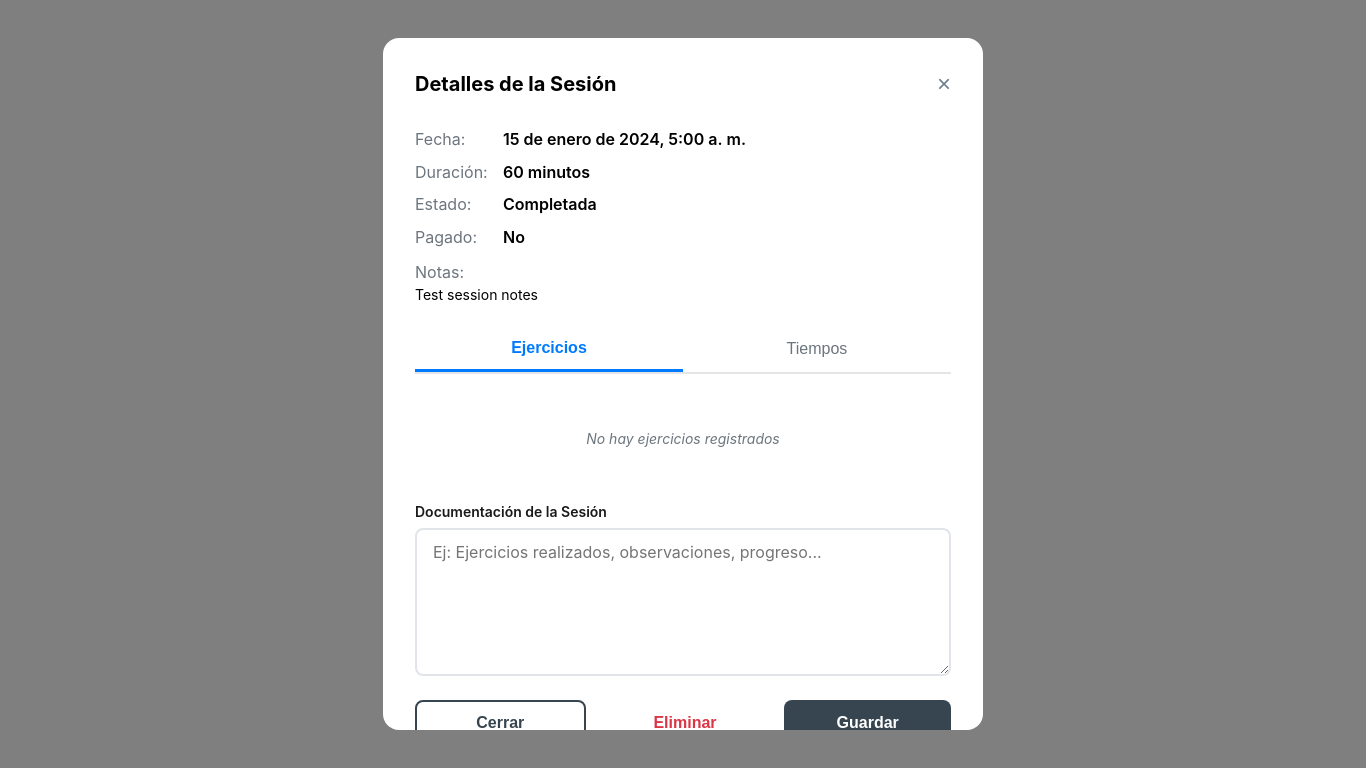
Test: SessionDetailModal › should display multiple measurements grouped separately
Click on Tiempos tab
Step 1. Click the button "Tiempos" → (817, 349), box [683,326,951,372]
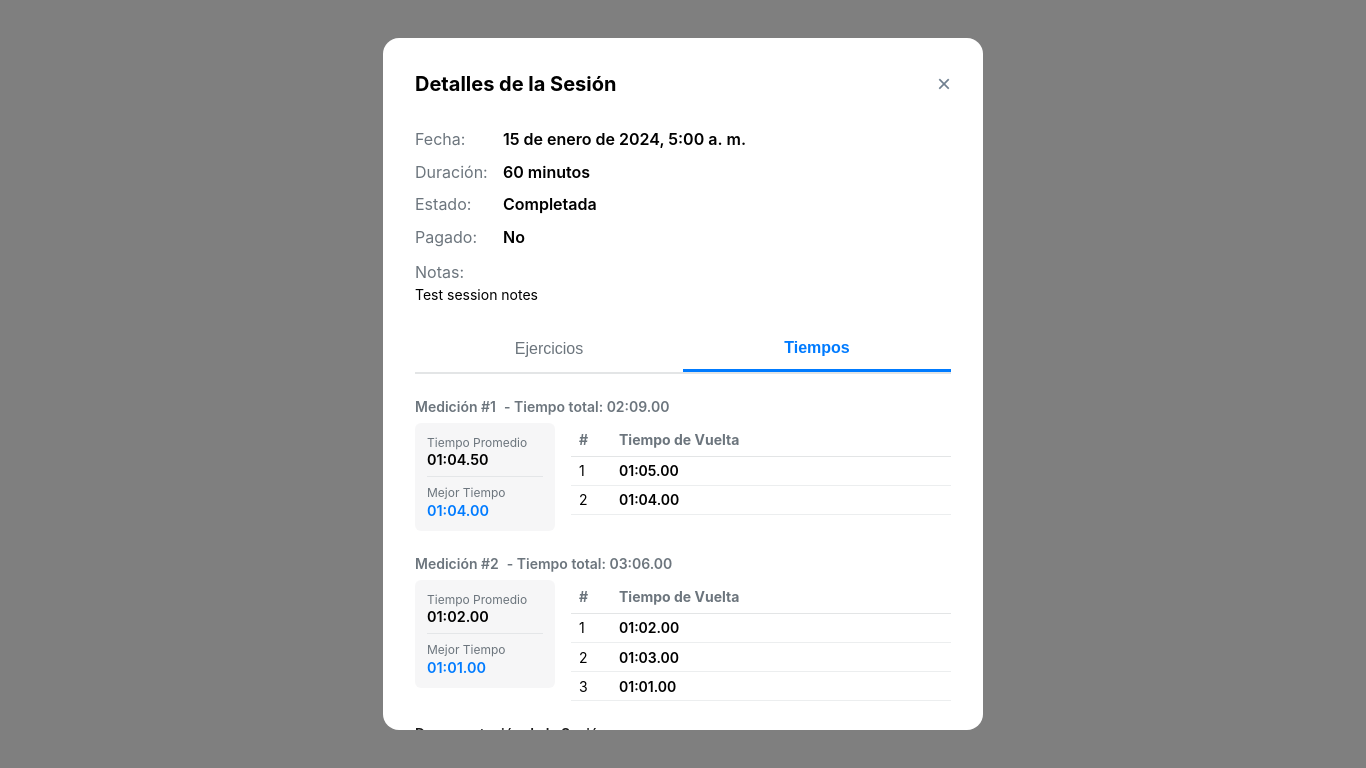
Expected: the text "Medición #1" is shown, [415,398,669,414]
Expected: the text "Medición #2" is shown, [415,555,672,572]
